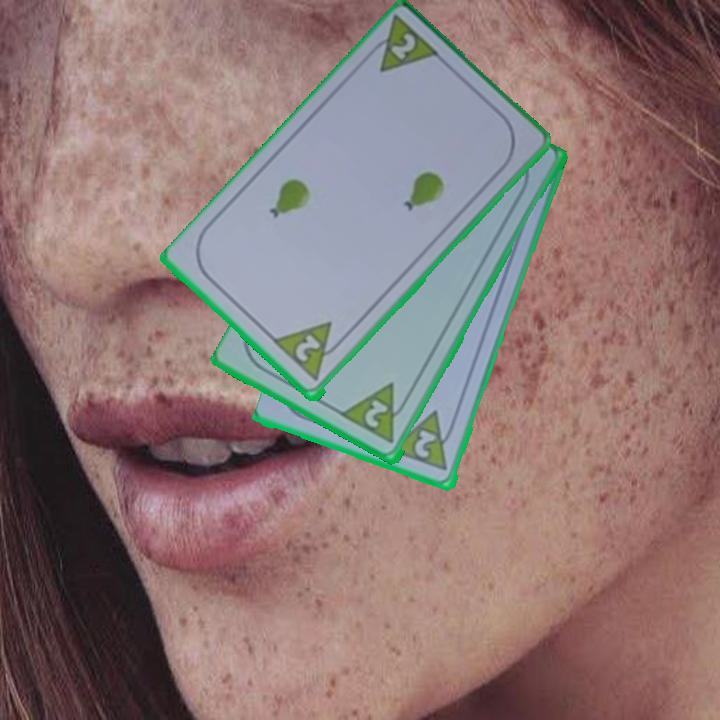2p: (271, 318, 350, 386), (361, 13, 444, 77), (389, 408, 460, 475), (361, 396, 392, 432)
